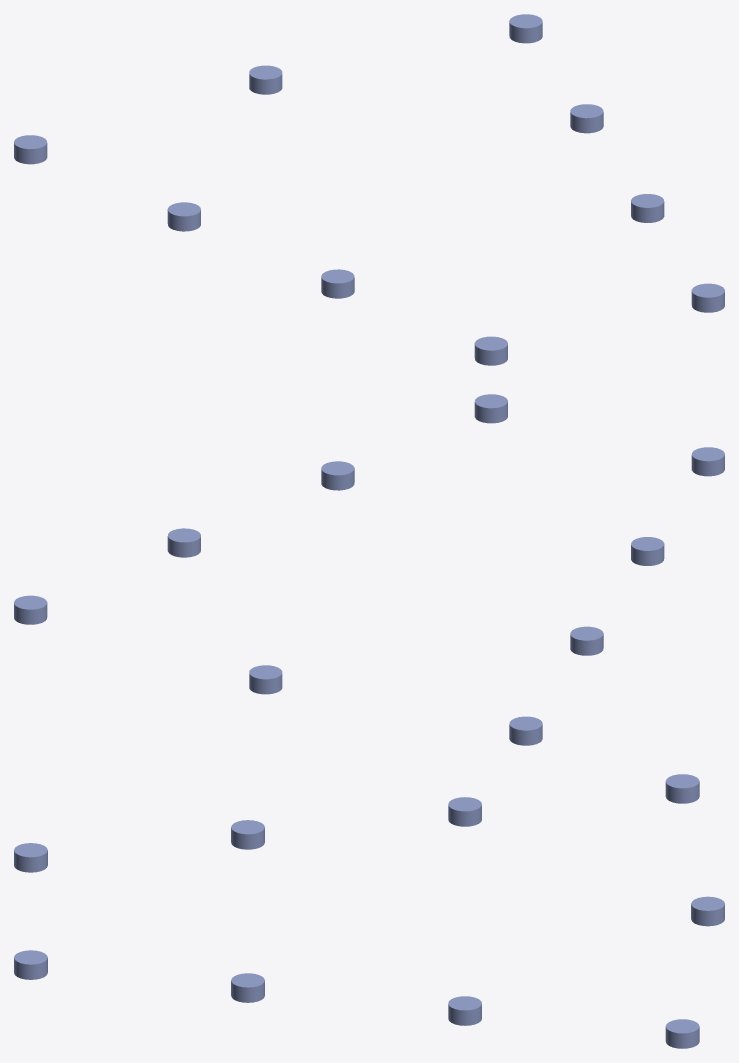
The model's file is Lights-GalleryRoom.FBX.
3 views of the same model, one above another, from view 1: azimuth 30°, elevation 25°; view 2: azimuth 150°, elevation 25°; view 3: azimuth 270°, elevation 25° (orthographic).
Parts seen in each view (by area): view 1: Cylinder09, Cylinder11, Cylinder17, Cylinder07, Cylinder15, Cylinder19, Cylinder04, Cylinder13, Cylinder06; view 2: Cylinder09, Cylinder06, Cylinder13, Cylinder07, Cylinder04, Cylinder15, Cylinder19, Cylinder11, Cylinder17; view 3: Cylinder11, Cylinder13, Cylinder07, Cylinder06, Cylinder15, Cylinder17, Cylinder04, Cylinder19, Cylinder09.
Part boxes in pixels (<box>): Cylinder09: <box>249,65,282,94</box>; Cylinder11: <box>509,14,542,43</box>; Cylinder17: <box>321,269,354,298</box>; Cylinder07: <box>570,104,603,133</box>; Cylinder15: <box>167,202,200,231</box>; Cylinder19: <box>474,336,507,365</box>; Cylinder04: <box>691,283,724,312</box>; Cylinder13: <box>14,135,47,164</box>; Cylinder06: <box>631,194,664,222</box>; Cylinder09: <box>249,665,282,694</box>; Cylinder06: <box>321,461,354,490</box>; Cylinder13: <box>509,716,542,745</box>; Cylinder07: <box>167,528,200,557</box>; Cylinder04: <box>474,394,507,423</box>; Cylinder15: <box>570,626,603,655</box>; Cylinder19: <box>691,447,724,476</box>; Cylinder11: <box>14,595,47,624</box>; Cylinder17: <box>631,537,664,565</box>; Cylinder11: <box>665,1019,699,1048</box>; Cylinder13: <box>665,774,699,803</box>; Cylinder07: <box>448,996,481,1025</box>; Cylinder06: <box>231,973,264,1002</box>; Cylinder15: <box>448,797,481,826</box>; Cylinder17: <box>231,820,264,849</box>; Cylinder04: <box>14,950,47,979</box>; Cylinder19: <box>14,843,47,872</box>; Cylinder09: <box>691,896,724,926</box>.
Bounding box in the file's own units: 14500 × 16800 × 400.
